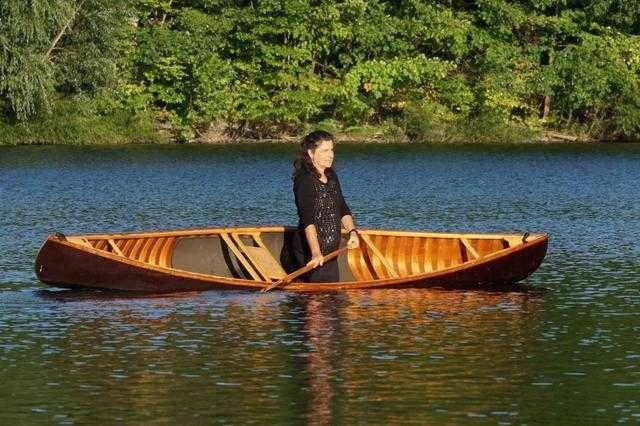kayak: (37, 222, 551, 294)
